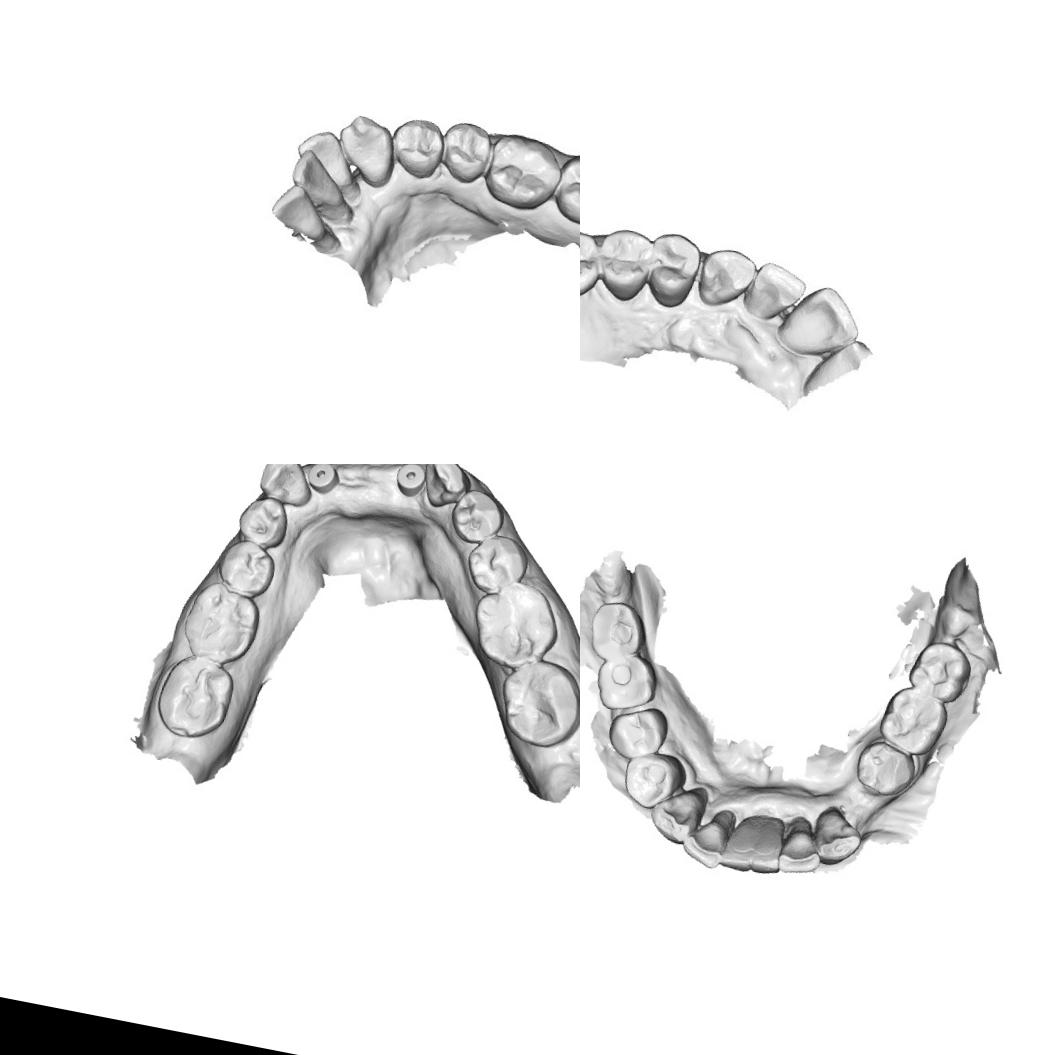canine: (333, 113, 401, 187), (694, 238, 758, 312), (644, 778, 710, 848), (807, 802, 867, 870), (412, 464, 477, 524), (251, 464, 318, 515)
implant: (385, 464, 433, 503), (301, 464, 347, 498)
incisor: (770, 274, 866, 364), (738, 257, 810, 329), (284, 145, 355, 214), (295, 128, 365, 188), (678, 802, 737, 871), (268, 186, 334, 245), (774, 813, 827, 879), (717, 808, 761, 873), (749, 814, 789, 877)
molar: (148, 646, 241, 752), (484, 652, 580, 753), (466, 579, 568, 674), (476, 128, 566, 218), (176, 580, 264, 667), (875, 682, 952, 760), (589, 647, 662, 718), (583, 596, 652, 668), (904, 637, 974, 706), (547, 149, 580, 234), (580, 221, 610, 302)
premolar: (458, 526, 538, 607), (638, 226, 705, 314), (589, 222, 658, 304), (618, 746, 689, 814), (210, 530, 278, 599), (603, 700, 671, 766), (382, 111, 446, 181), (851, 736, 919, 801), (437, 118, 498, 188), (232, 488, 296, 552), (444, 486, 508, 548)
